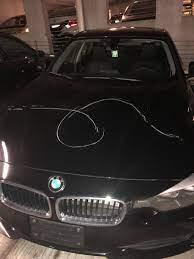bonnet-dent: (3, 80, 193, 198)
